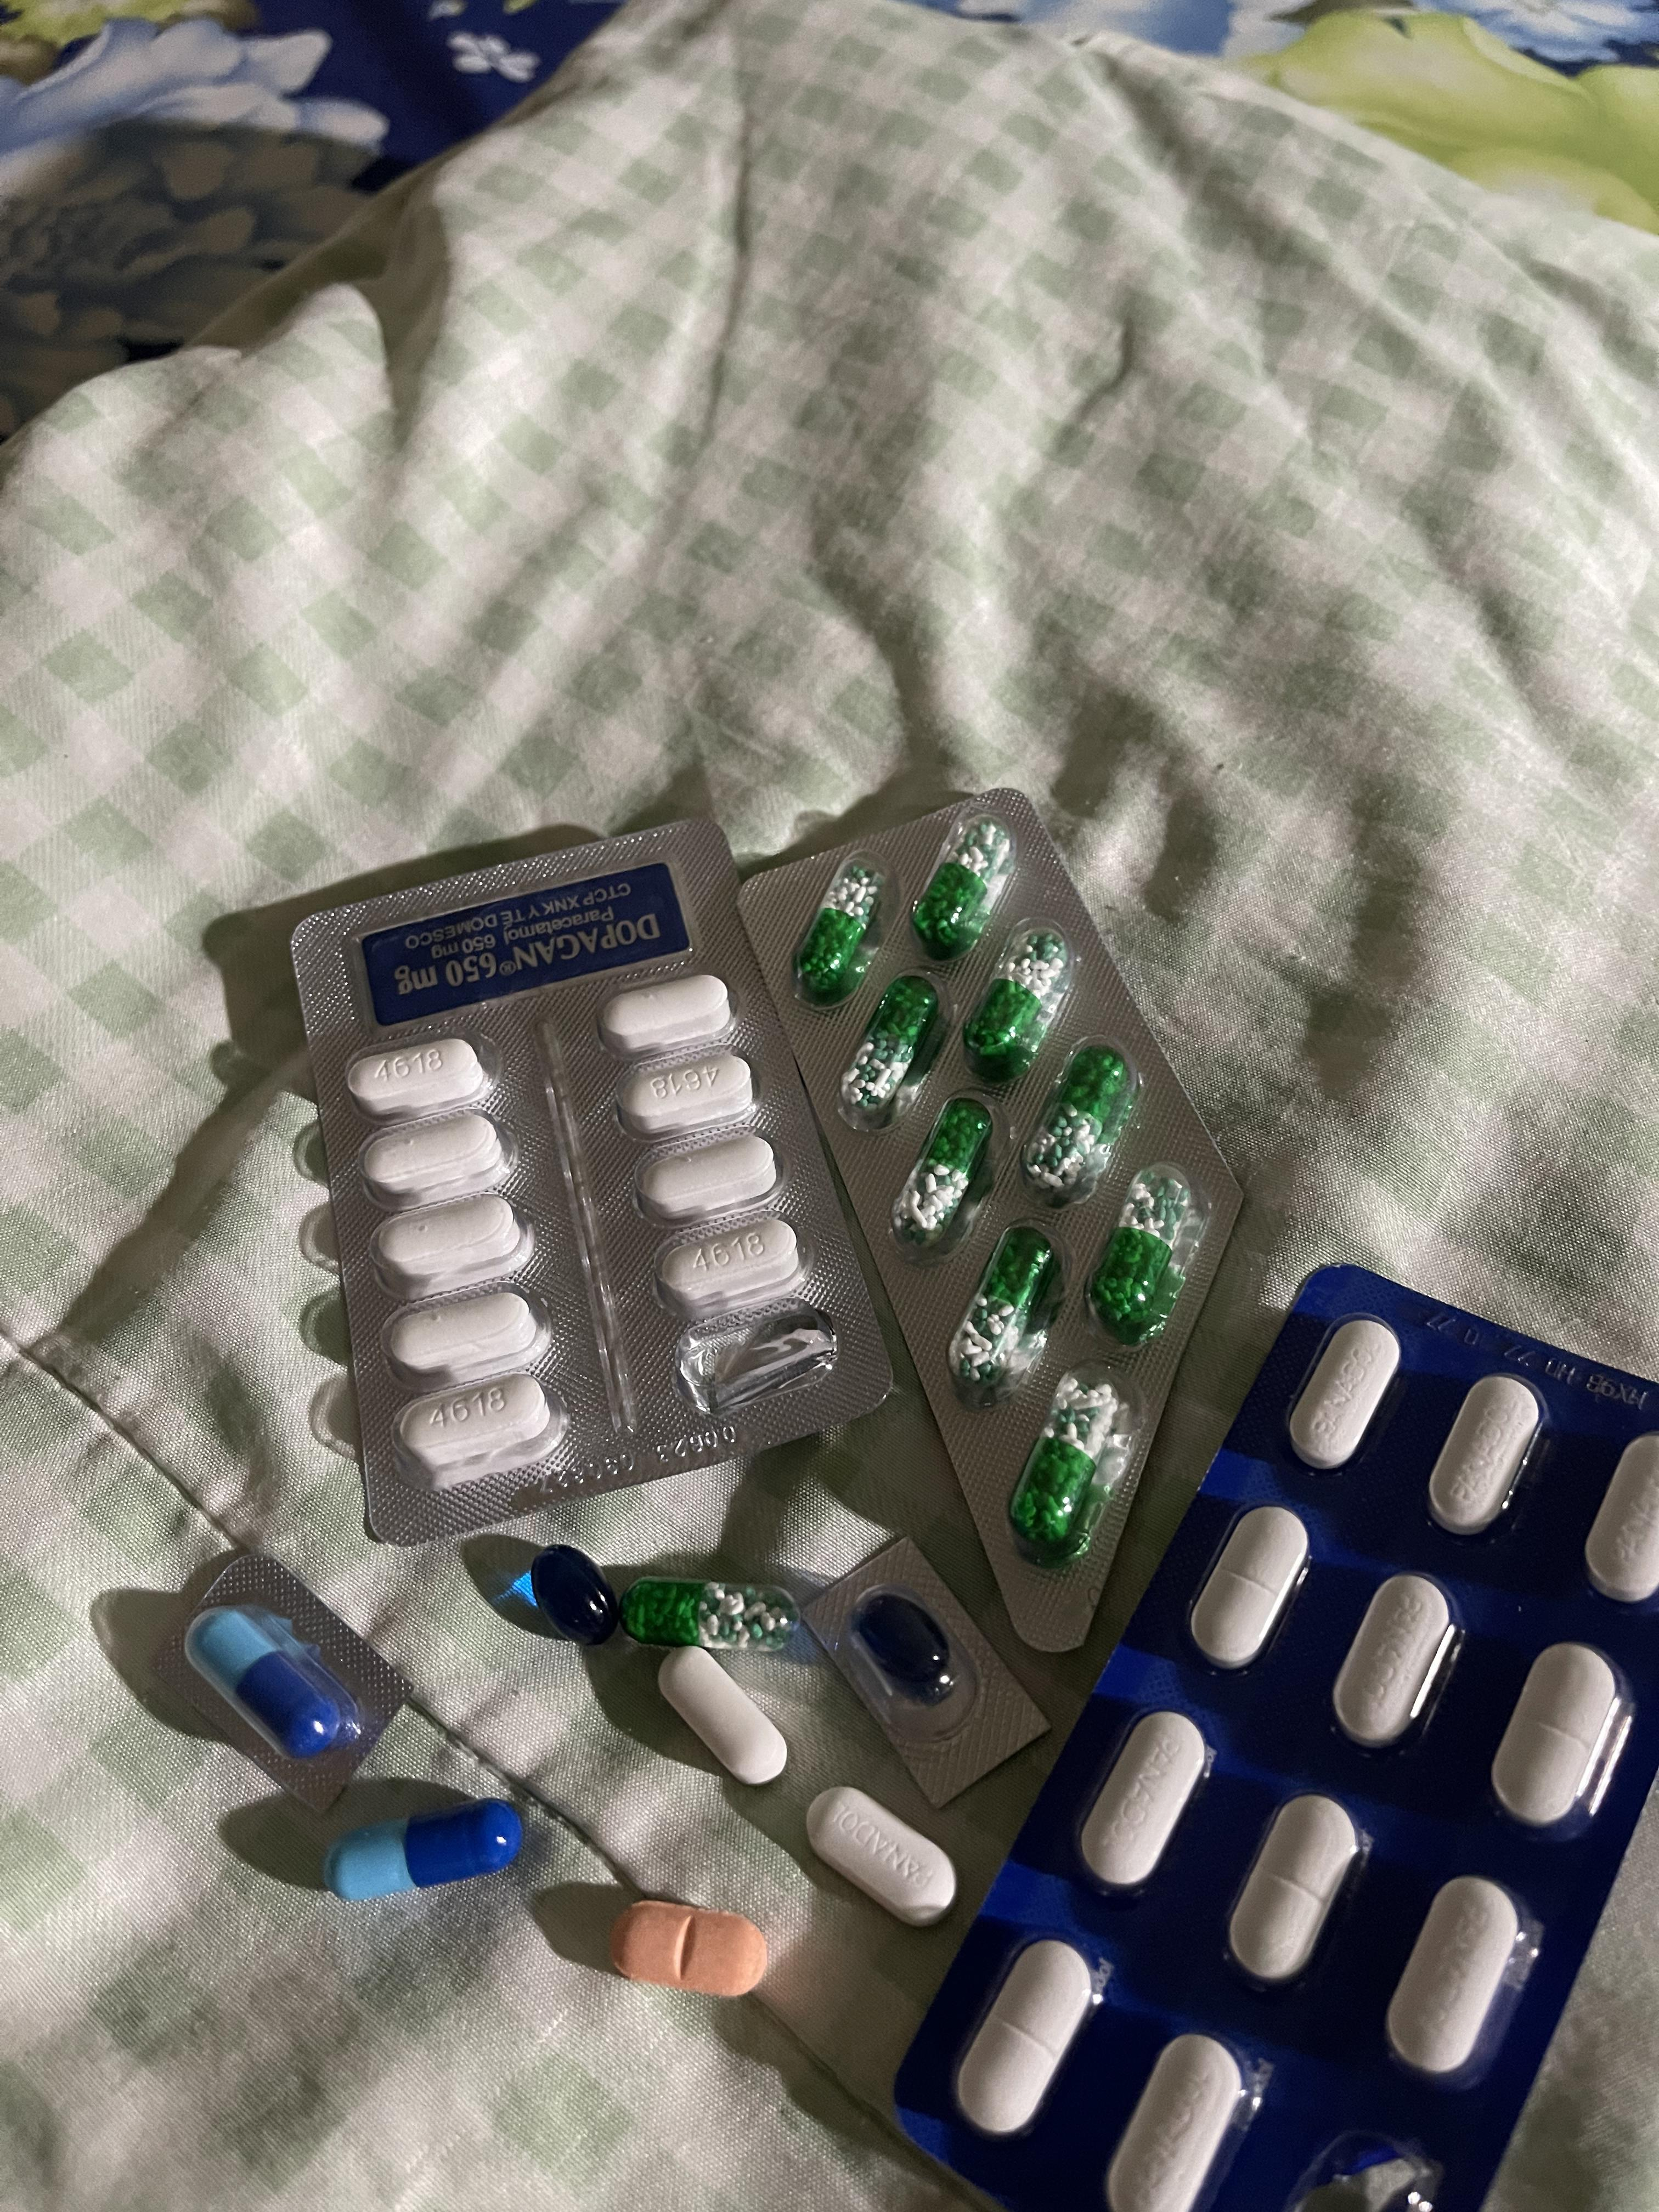Lincomyxin_500mg: (854, 1592, 964, 1705), (532, 1545, 622, 1648)
Loratadine_10mg: (610, 1900, 769, 1994)
Paracetamol_350mg: (1385, 1876, 1523, 2081), (953, 1939, 1091, 2141), (1490, 1642, 1631, 1836), (1227, 1789, 1361, 1987), (1107, 2034, 1246, 2212), (1331, 1569, 1460, 1752), (1075, 1710, 1202, 1895), (805, 1785, 950, 1930), (1187, 1503, 1304, 1669), (1429, 1372, 1547, 1534), (1290, 1315, 1403, 1467), (1582, 1430, 1656, 1602)
Paracetamol_500mg: (394, 1371, 563, 1489), (657, 1644, 788, 1785), (375, 1195, 528, 1296), (659, 1212, 803, 1317), (389, 1291, 545, 1385), (362, 1113, 507, 1205), (349, 1035, 491, 1122), (638, 1136, 777, 1223), (619, 1052, 751, 1141), (598, 975, 734, 1061)
Paracetamol_650mg: (1009, 1371, 1136, 1559), (948, 1224, 1063, 1400), (1087, 1167, 1199, 1346), (1019, 1043, 1136, 1200), (962, 928, 1072, 1076), (890, 1101, 995, 1256), (838, 975, 943, 1122), (913, 819, 1014, 960), (793, 860, 885, 1001), (620, 1578, 798, 1651)
pill: (186, 1602, 362, 1761), (324, 1797, 525, 1902)
